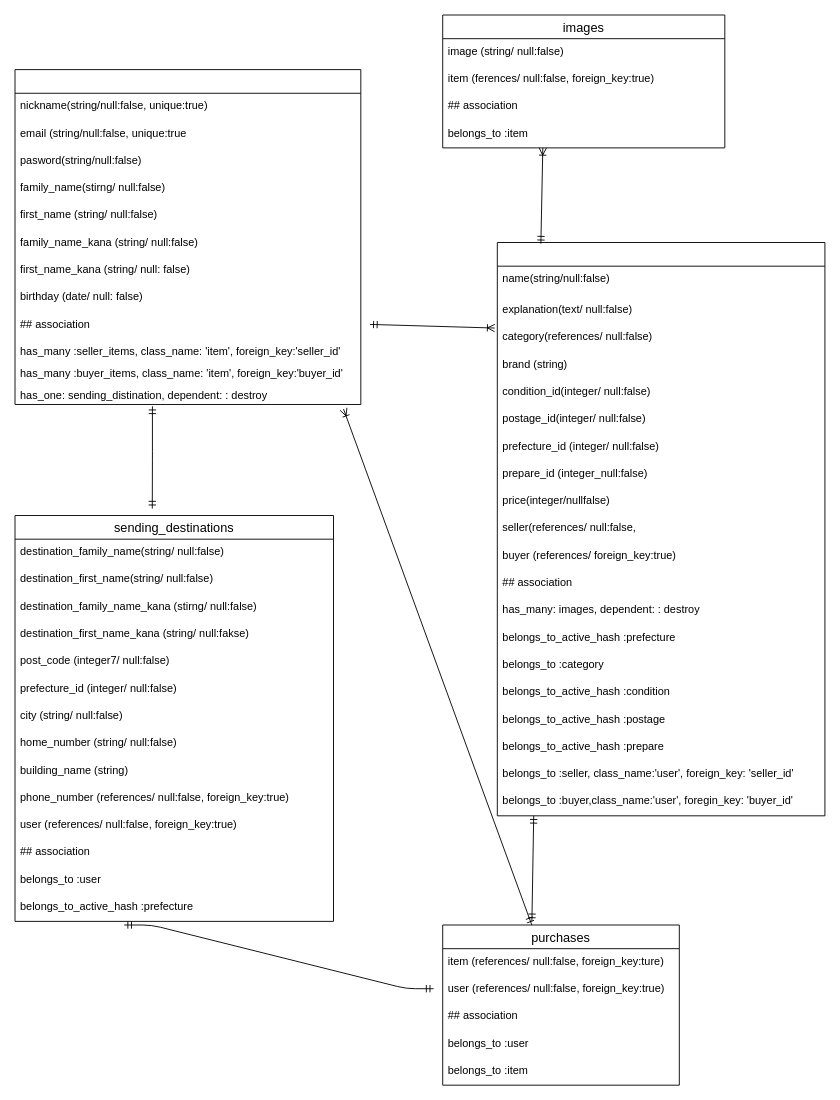
This 840x1100 diagram has some shape labels left out. The box of each missing label's shape, as (x1, y1, x2, y2) in pixels:
items: (496, 242, 825, 816)
users: (14, 69, 361, 404)
